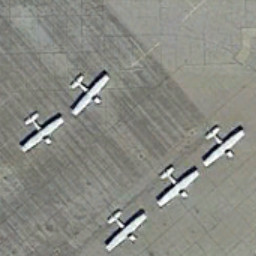Airplane: (60, 60, 122, 122), (12, 106, 70, 156), (91, 206, 151, 253), (146, 162, 202, 212), (194, 120, 248, 171)
